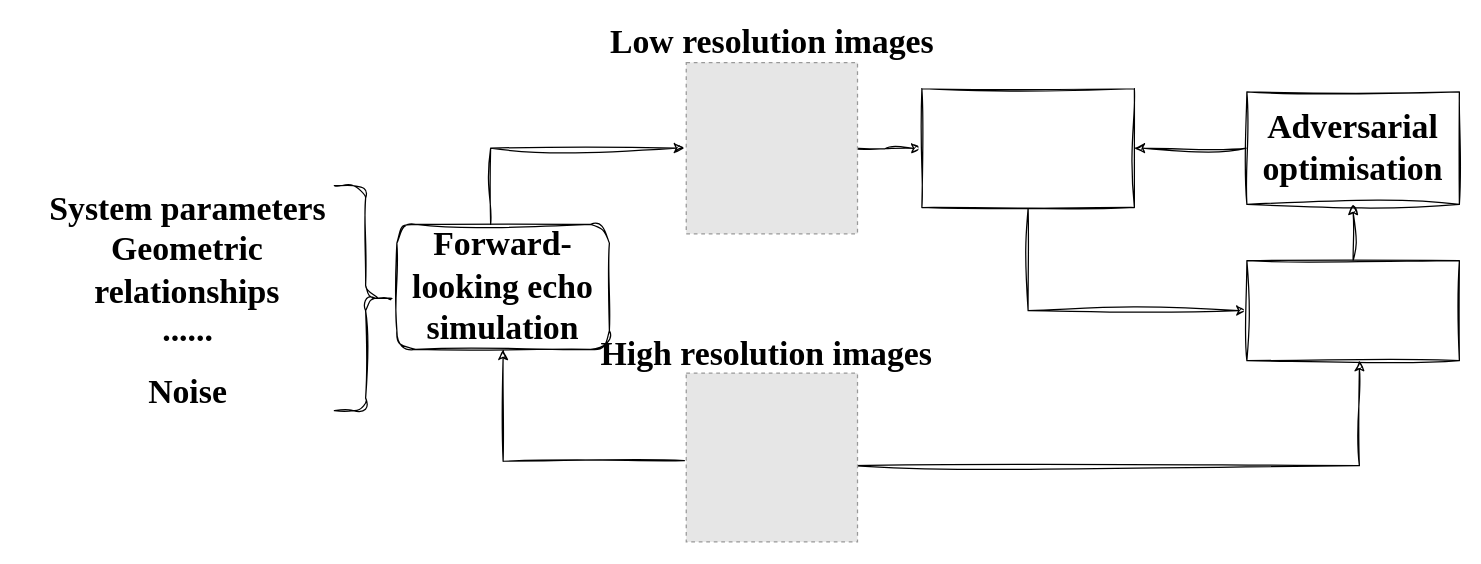
Image size: 1481x564. Some labels were removed from this diagram. Grey dashed boxes stand in for pictures. Here are the shapes that lost their labels. From the top down, the centre of each, then its label:
At (x=1027, y=148): "Generating adversarial network".
At (x=1352, y=310): "Loss function".
